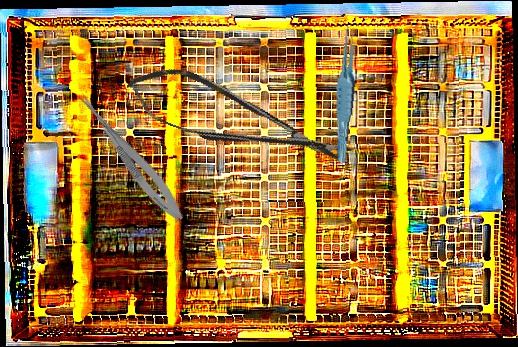Micro Scissor: (119, 52, 360, 191), (68, 88, 191, 227)
Tissue Forceps: (325, 23, 367, 164)
